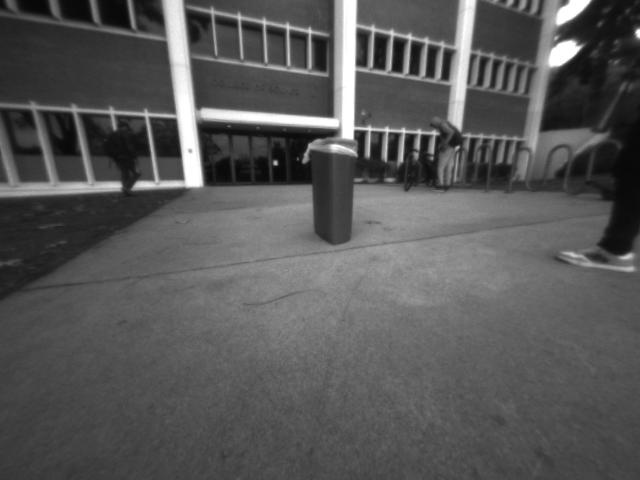trashcan_open: (301, 131, 364, 255)
